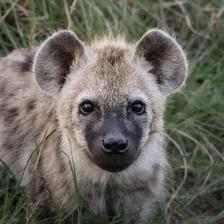hyena: (26, 18, 205, 224)
